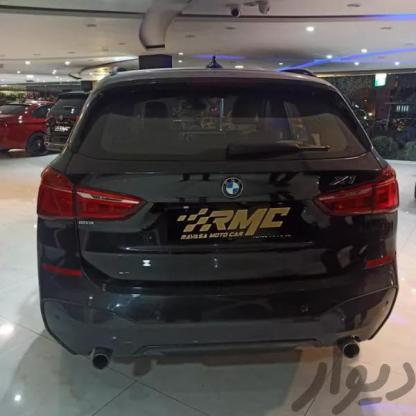Car: (33, 69, 413, 366), (34, 86, 98, 154), (0, 97, 44, 151)
